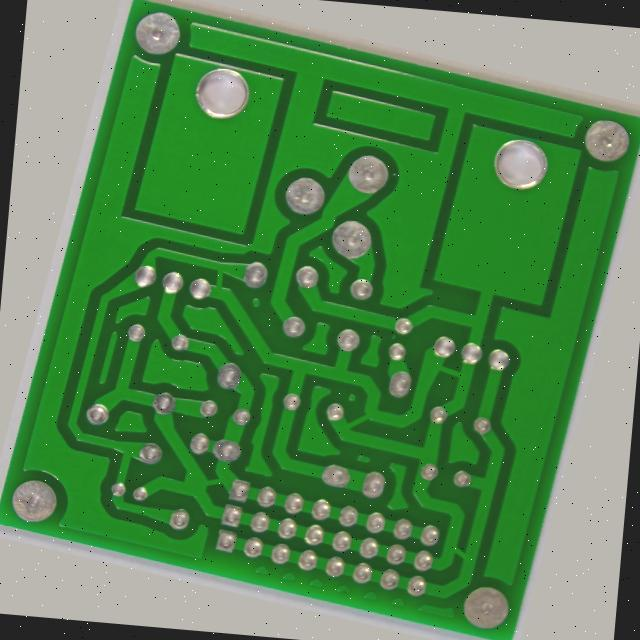short: (358, 399, 402, 446), (176, 265, 217, 313), (455, 336, 502, 376), (506, 537, 549, 573), (206, 499, 250, 534)
